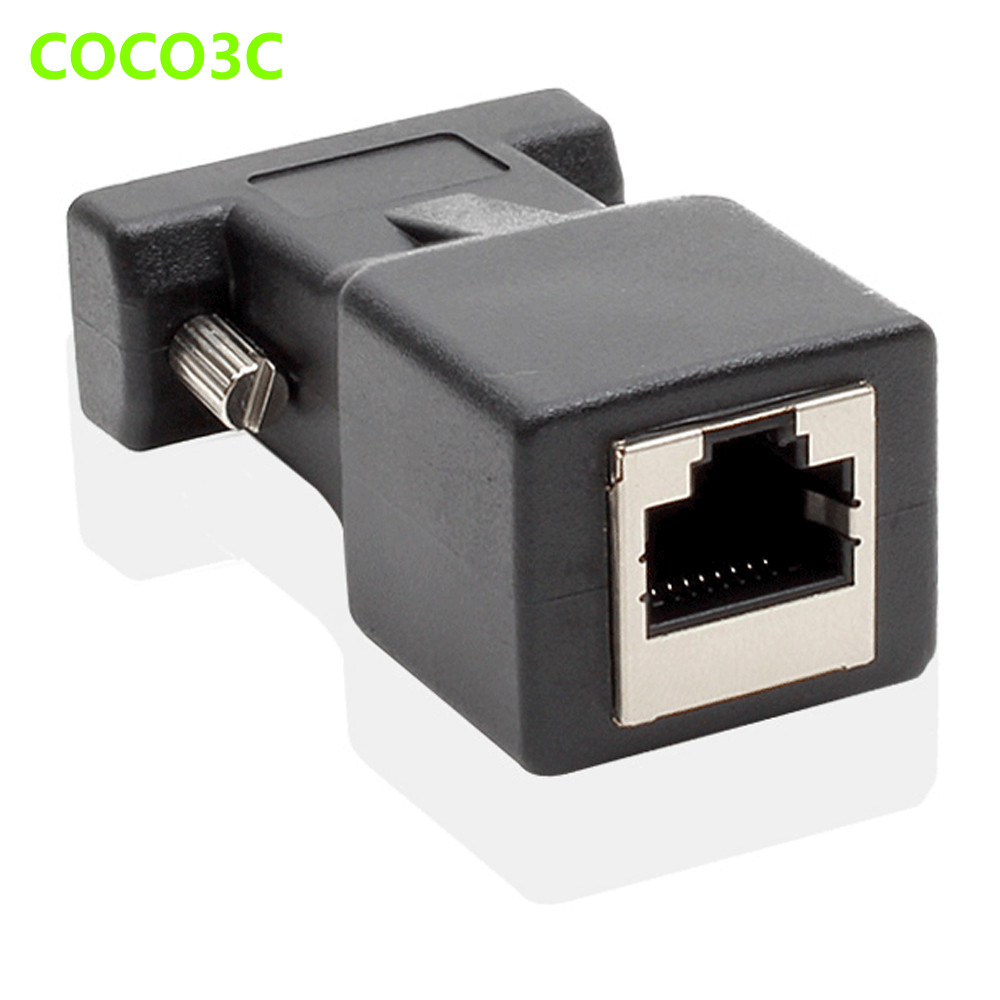lan: (617, 408, 880, 646)
